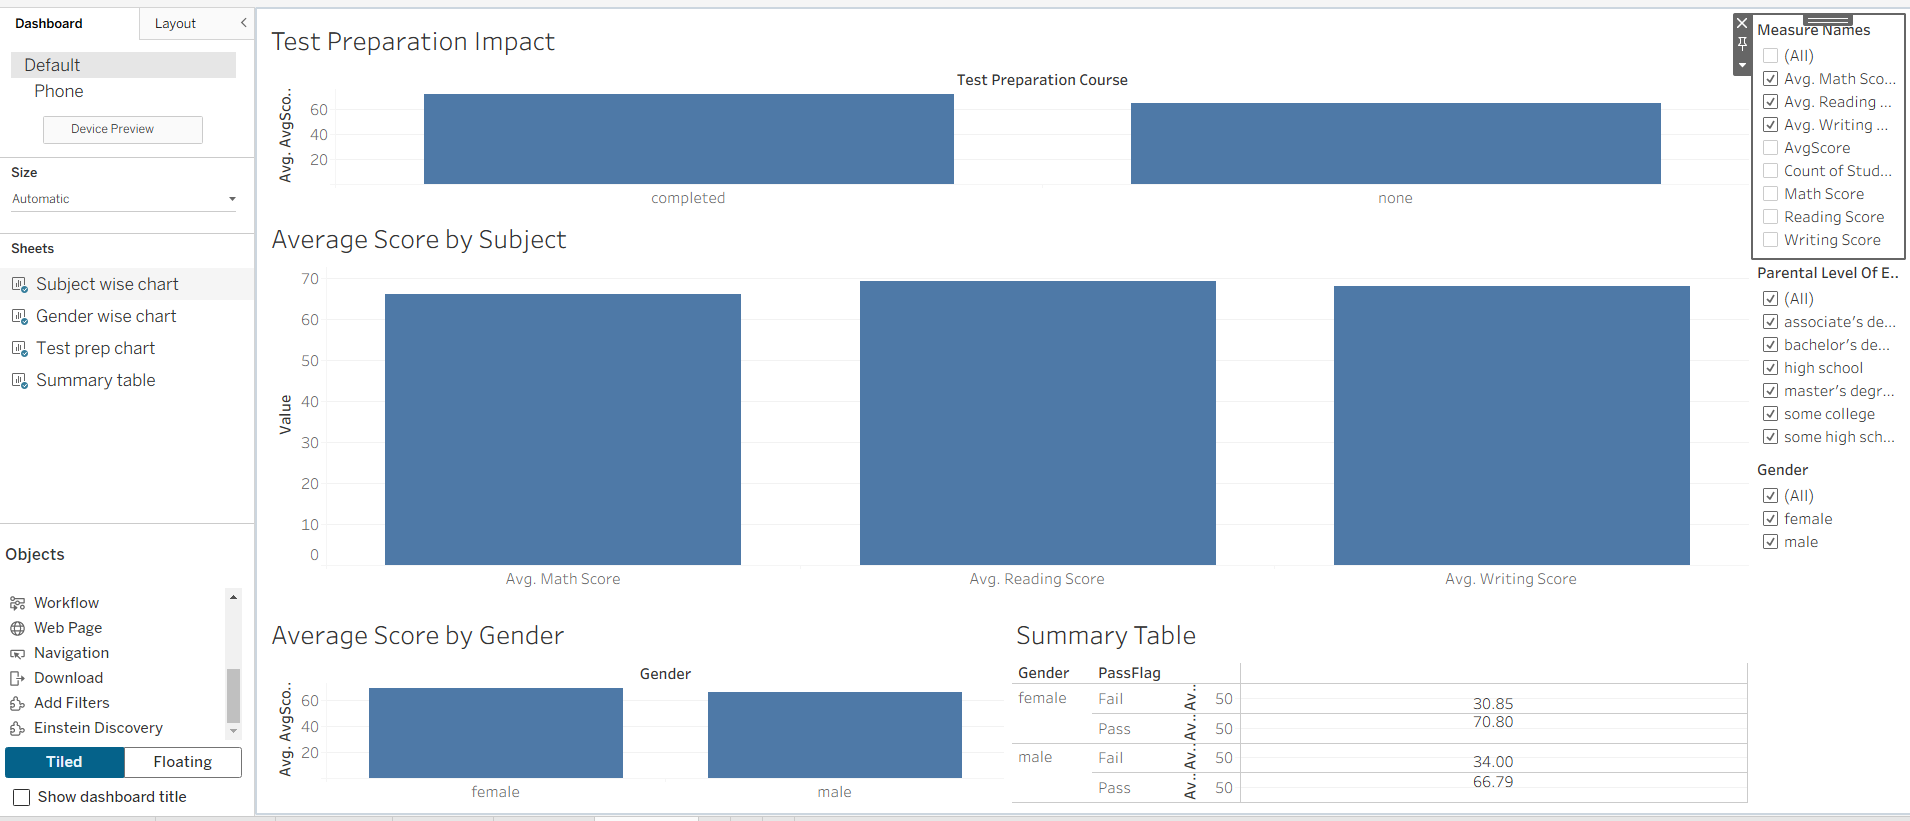

Layout of this report page (visuals, bound fields, positions):
{"tool":"tableau","page":{"name":"Dashboard 1","canvas":[1000,1000],"units":"permille","ordinal":0},"visuals":[{"type":"worksheet","title":"Test prep chart","mark":"Bar","rows":["Calculation_199284300724150272"],"cols":["test preparation course"],"box":[11.5,10,759.7,244.9]},{"type":"filter","title":"Subject wise chart","param":"[federated.1tigpxz0tqeigu1b43k9x1w4c7u4].[:Measure Names]","box":[771.2,10,217.3,304.5]},{"type":"worksheet","title":"Subject wise chart","mark":"Bar","box":[11.5,255,759.7,490]},{"type":"filter","title":"Gender wise chart","param":"[federated.1tigpxz0tqeigu1b43k9x1w4c7u4].[none:parental level of education:nk]","box":[771.2,314.6,217.3,246.9]},{"type":"filter","title":"Gender wise chart","param":"[federated.1tigpxz0tqeigu1b43k9x1w4c7u4].[none:gender:nk]","box":[771.2,561.4,217.3,131.6]},{"type":"worksheet","title":"Gender wise chart","mark":"Bar","rows":["Calculation_199284300724150272"],"cols":["gender"],"box":[11.5,744.9,379.8,245]},{"type":"worksheet","title":"Summary table","mark":"Text","rows":["gender","Calculation_199284300724260865","Calculation_199284300724150272"],"box":[391.3,744.9,379.9,245]}]}

Visuals, with their boxes on the dashboard's canvas, which has no fixed pixel size, in thousandths of its width and height (x1, y1, x2, y2). These are canvas units, not pixel positions in the 1910x821 screenshot, which may show the page scaled, cropped or inside an application window:
"Test prep chart" worksheet (Bar marks): left=12, top=10, right=771, bottom=255
"Subject wise chart" filter: left=771, top=10, right=988, bottom=314
"Subject wise chart" worksheet (Bar marks): left=12, top=255, right=771, bottom=745
"Gender wise chart" filter: left=771, top=315, right=988, bottom=562
"Gender wise chart" filter: left=771, top=561, right=988, bottom=693
"Gender wise chart" worksheet (Bar marks): left=12, top=745, right=391, bottom=990
"Summary table" worksheet (Text marks): left=391, top=745, right=771, bottom=990
